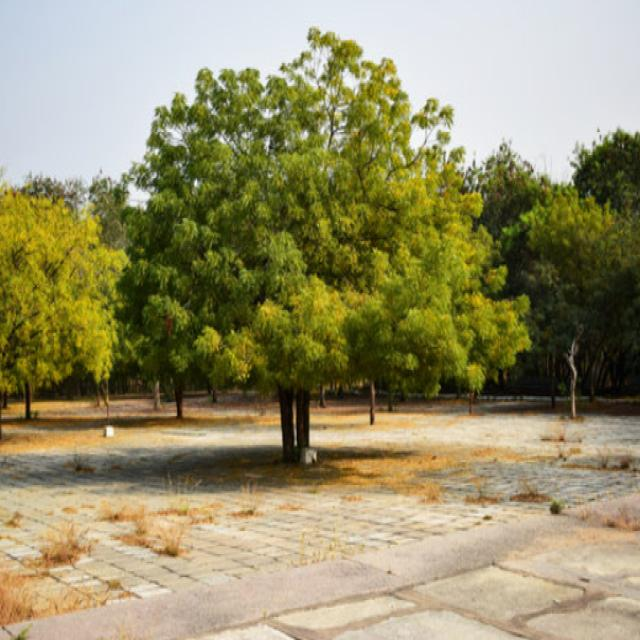Neem-Tree: (133, 49, 523, 471), (1, 148, 119, 432)
